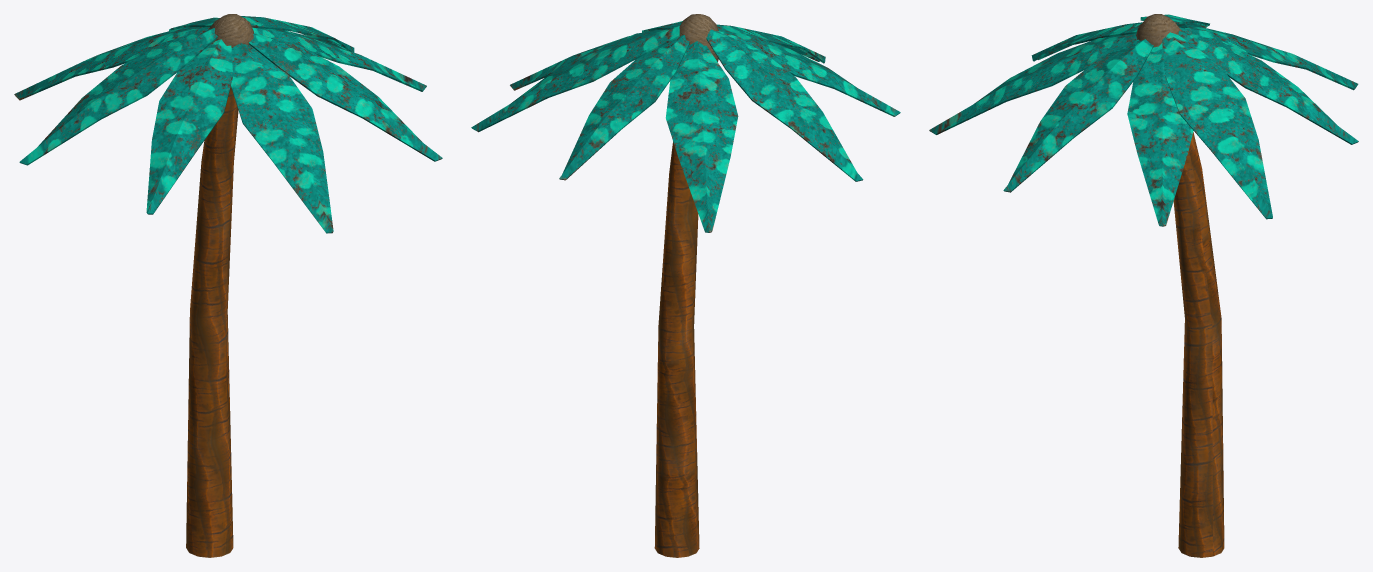
File: Sea_PalmTree1_SM.fbx
The picture shows the model from 3 angles, left to right: view 1: azimuth 30°, elevation 25°; view 2: azimuth 150°, elevation 25°; view 3: azimuth 270°, elevation 25°; orthographic projection. The views are drawn at different scales.
Visible parts, largest first — view 1: Sea_PalmTree1_SM; view 2: Sea_PalmTree1_SM; view 3: Sea_PalmTree1_SM.
Boxes of the visible parts, x1=… form: Sea_PalmTree1_SM: x1=14, y1=14, x2=442, y2=557; Sea_PalmTree1_SM: x1=471, y1=14, x2=900, y2=557; Sea_PalmTree1_SM: x1=929, y1=14, x2=1358, y2=557.
Bounding box in the file's own units: 768 × 1029 × 753.
